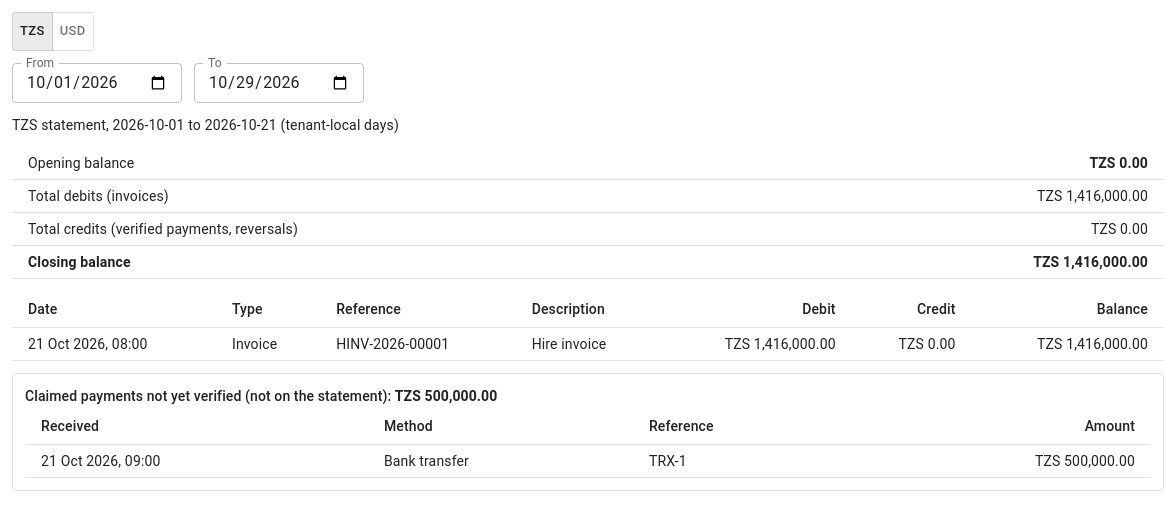
Test case: Customer balance and statement › loads the statement per currency with opening / closing and unverified claims
Check: the text "Opening balance" is shown, box [12,147,787,179]
Check: the text "Closing balance" is shown, box [12,245,787,278]
Step 1. Click the button "USD" → click(73, 31), box [52,12,94,51]
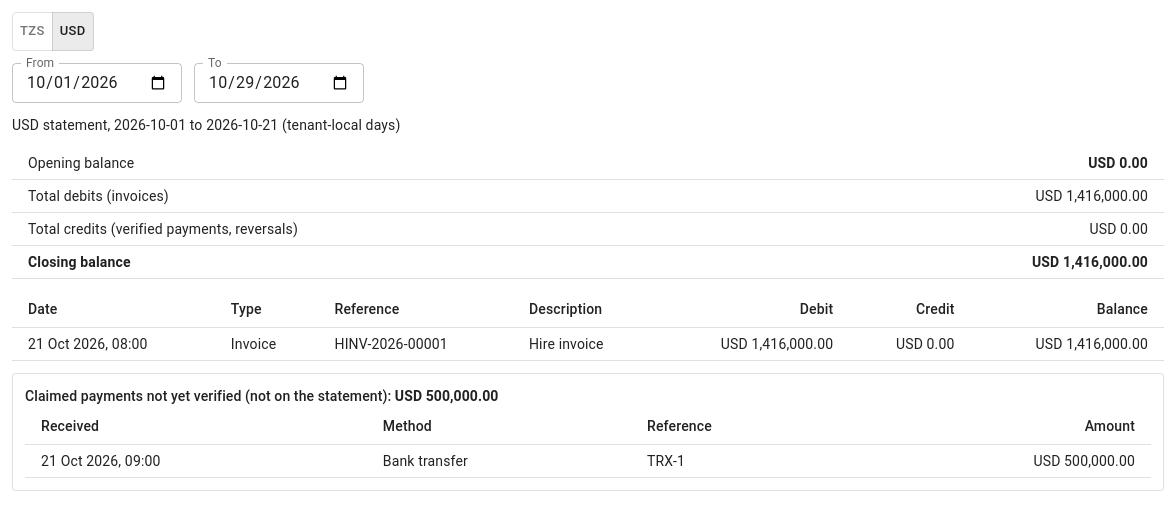
Check: the text "USD statement, 2026-10-01 to 2026-10-21 (tenant-local days)" is shown, box [12,117,400,133]
